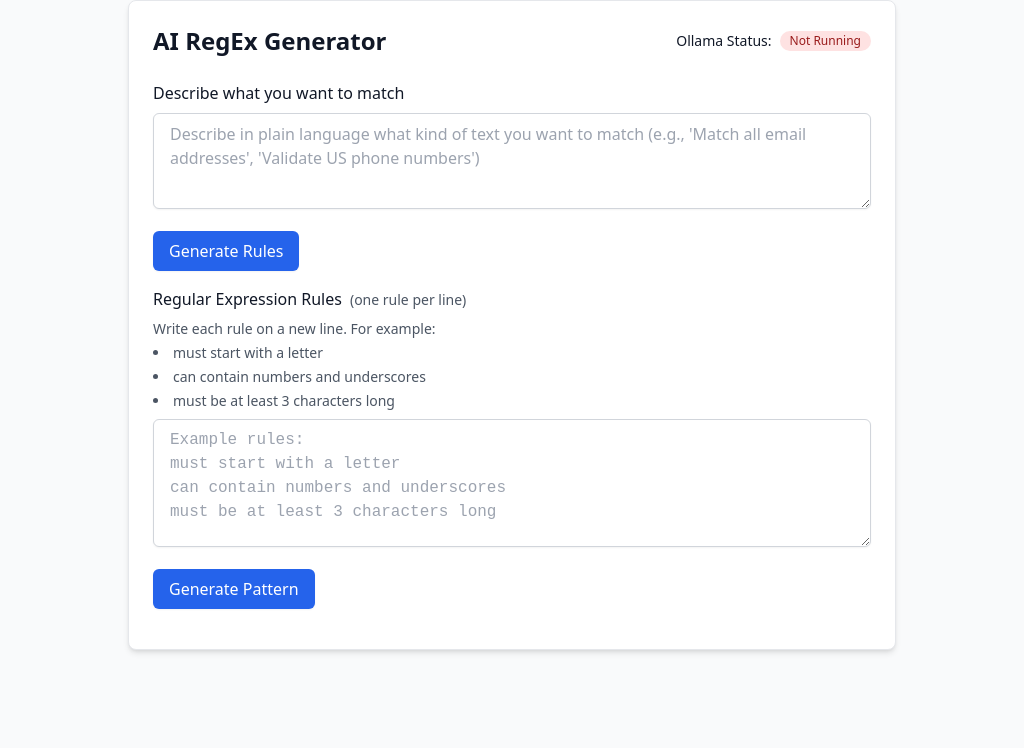
HomePage › generates a regex pattern when the generate button is clicked
Note: Enter a description
Replace the text in the text box with placeholder "Describe in plain language" with "Match email addresses" at x=512, y=161, box top-left (153, 113), bottom-right (871, 209)
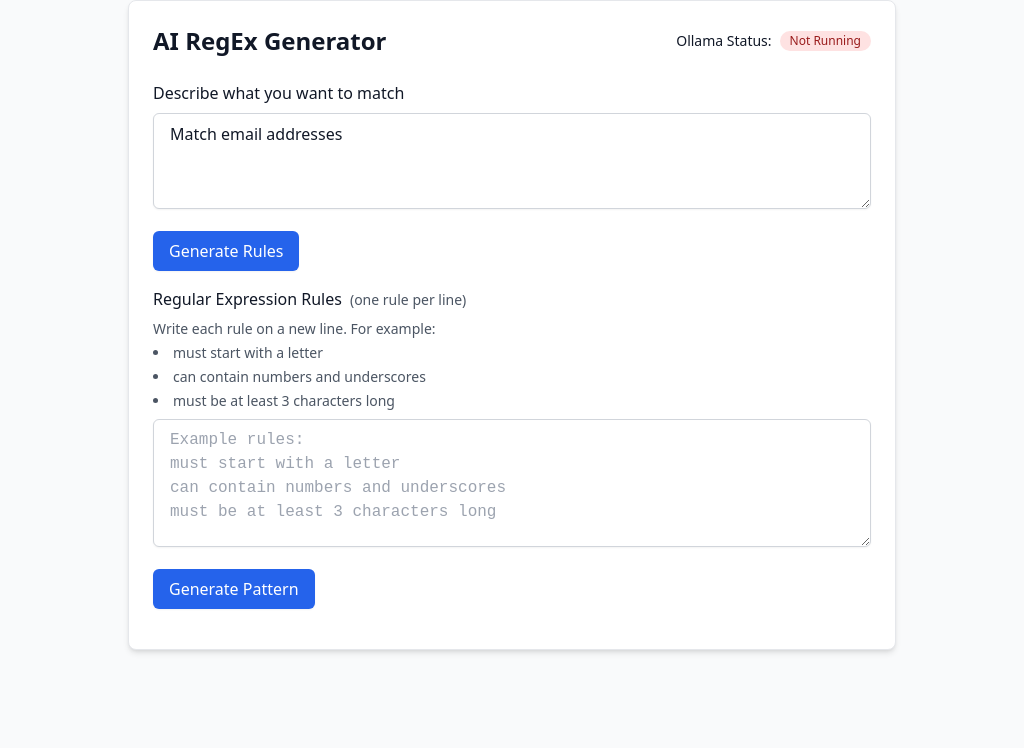
Note: Click the generate button
Click the button "Generate Pattern".
click(234, 589)  # box top-left (153, 569), bottom-right (314, 609)
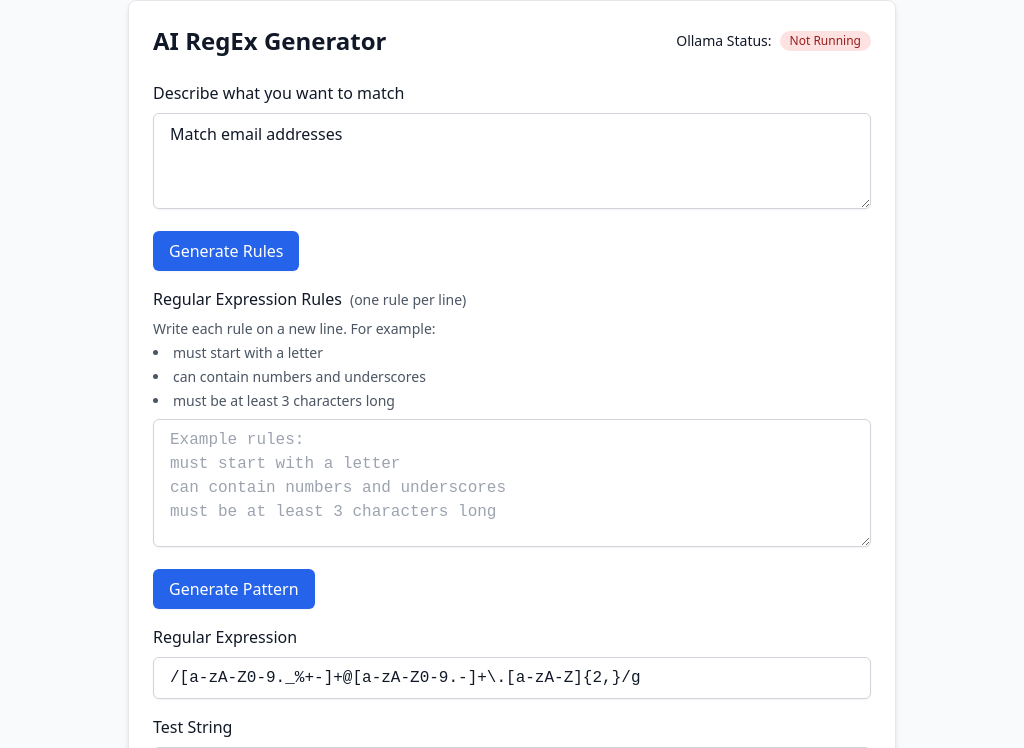
Expected: the text "Regular Expression" is shown, top-left (153, 626), bottom-right (297, 648)
Expected: the field labelled "Regular Expression" holds "/[a-zA-Z0-9._%+-]+@[a-zA-Z0-9.-]+\\.[a-zA-Z]{2,}/g", top-left (153, 657), bottom-right (871, 699)
